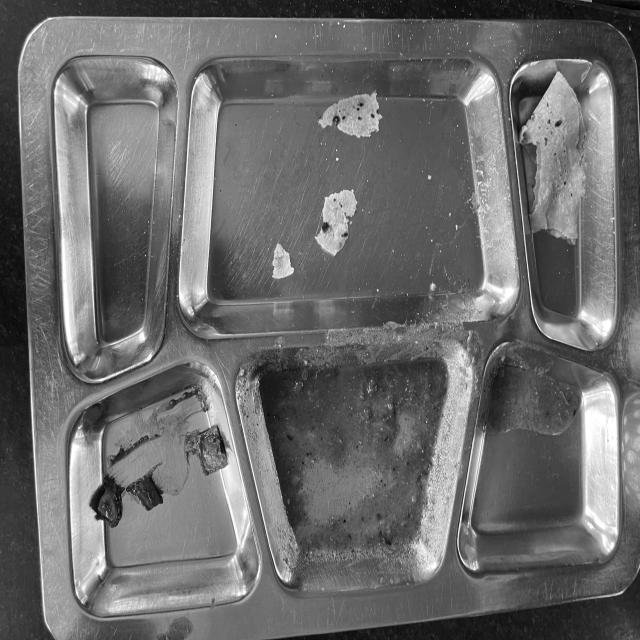Empty-Plate: (41, 32, 640, 593)
